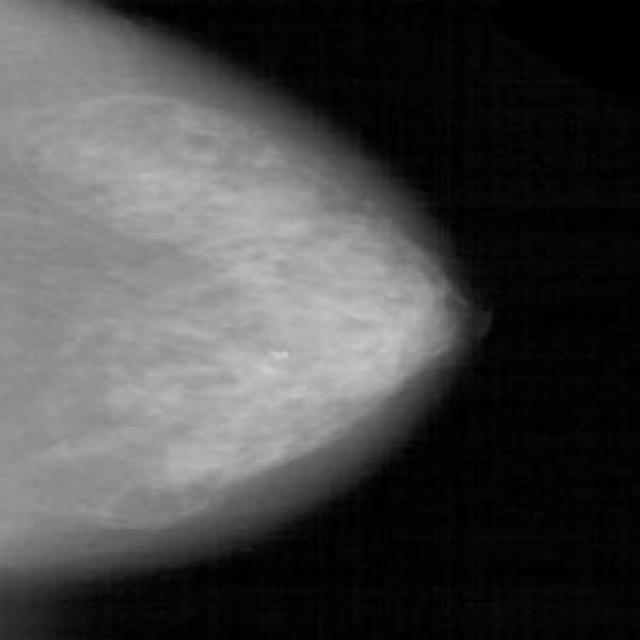tumor: (275, 227, 427, 415)
